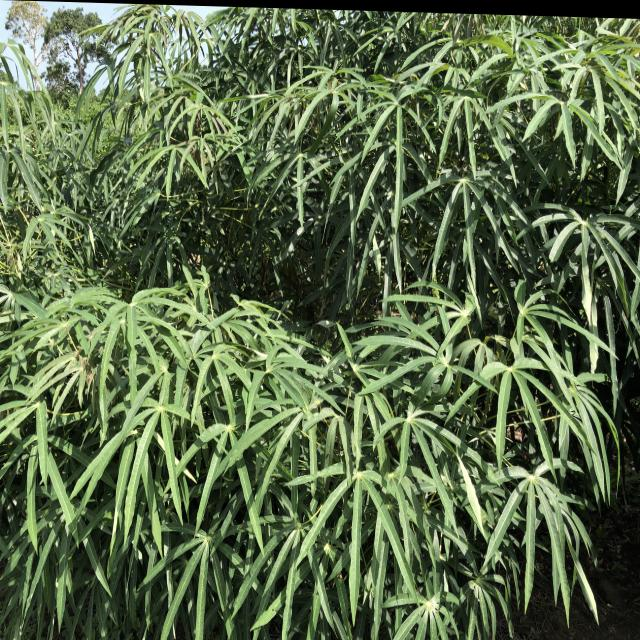Mosca: (471, 234, 486, 250), (170, 332, 185, 348), (351, 516, 368, 530), (336, 566, 348, 583), (45, 520, 60, 531)
